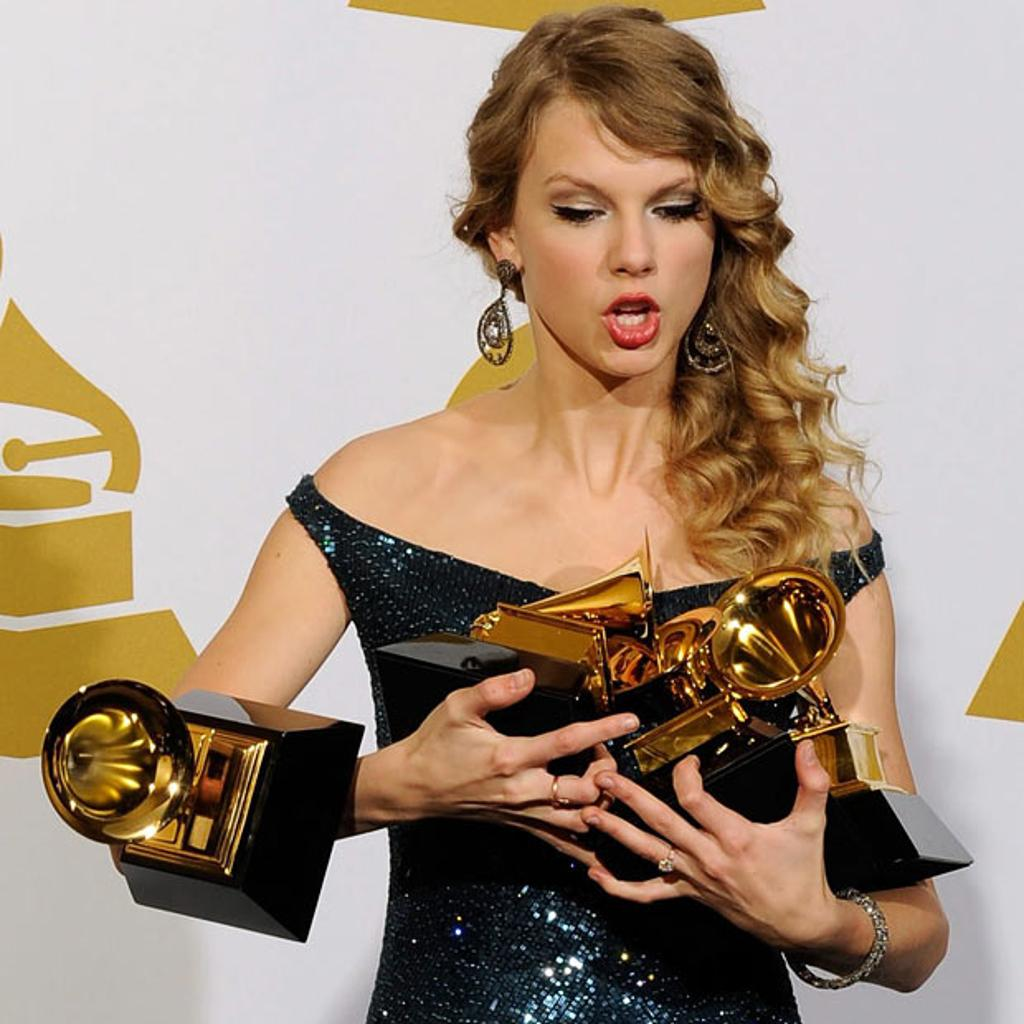face: (516, 86, 716, 374)
